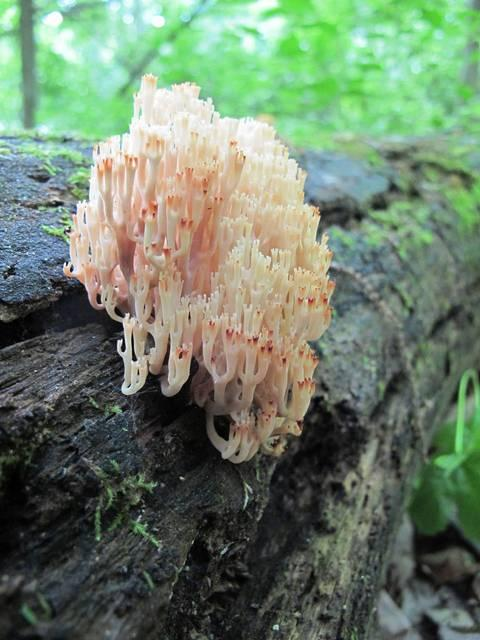Edible Mushroom: (62, 72, 336, 465)
